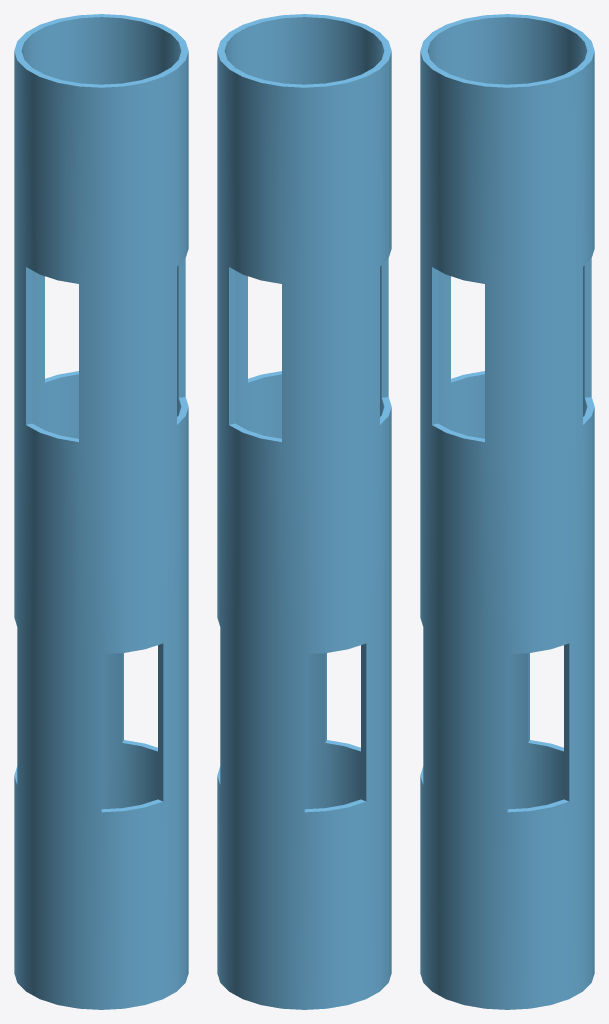
File: SpinningCylinder.glb
3 renders of one model, left to right at view 1: azimuth 30°, elevation 25°; view 2: azimuth 150°, elevation 25°; view 3: azimuth 270°, elevation 25°, orthographic.
Visible parts, largest first — view 1: spinning_cylinder; view 2: spinning_cylinder; view 3: spinning_cylinder.
Boxes of the visible parts, box(x1,y1,x2,y2) form: spinning_cylinder: box(14, 14, 188, 1009); spinning_cylinder: box(217, 14, 391, 1009); spinning_cylinder: box(420, 14, 594, 1009).
Size of the model in its own units: 12 by 70 by 12.
